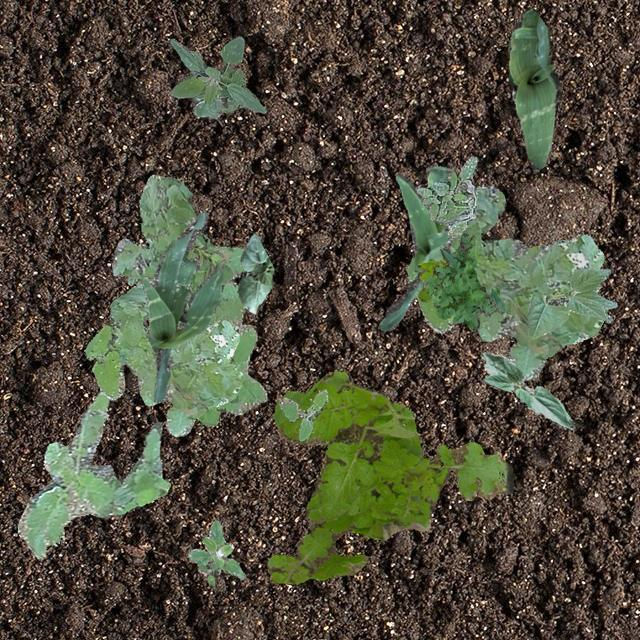crop: (140, 210, 222, 402), (378, 166, 452, 330), (508, 6, 562, 170), (168, 36, 266, 118), (480, 352, 574, 428), (528, 264, 616, 338), (236, 232, 272, 314)
weed: (266, 370, 512, 582), (110, 174, 266, 426), (406, 184, 604, 380), (17, 390, 170, 558), (85, 282, 242, 436), (424, 232, 504, 330), (414, 156, 476, 237), (188, 520, 245, 584), (278, 388, 328, 441), (416, 258, 446, 300), (188, 242, 222, 268)
